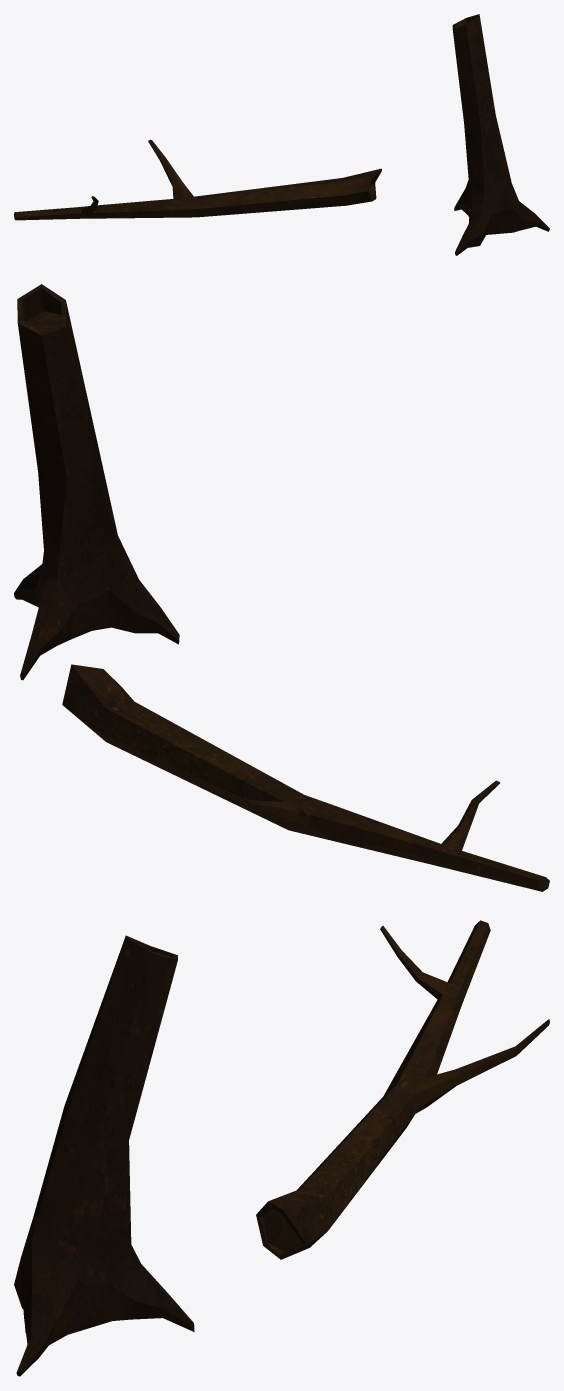
The model's file is Tree_04_Quebrada.fbx.
3 views of the same model, one above another, from view 1: azimuth 30°, elevation 25°; view 2: azimuth 150°, elevation 25°; view 3: azimuth 270°, elevation 25° (orthographic). The views are drawn at different scales.
Visible parts, largest first — view 1: polySurface44; view 2: polySurface44; view 3: polySurface44.
Boxes of the visible parts, x1,y1,x2,y2 form: polySurface44: [14, 14, 549, 255]; polySurface44: [14, 284, 549, 891]; polySurface44: [14, 920, 549, 1376].
Size of the model in its own units: 29.33 by 14.02 by 16.84.
